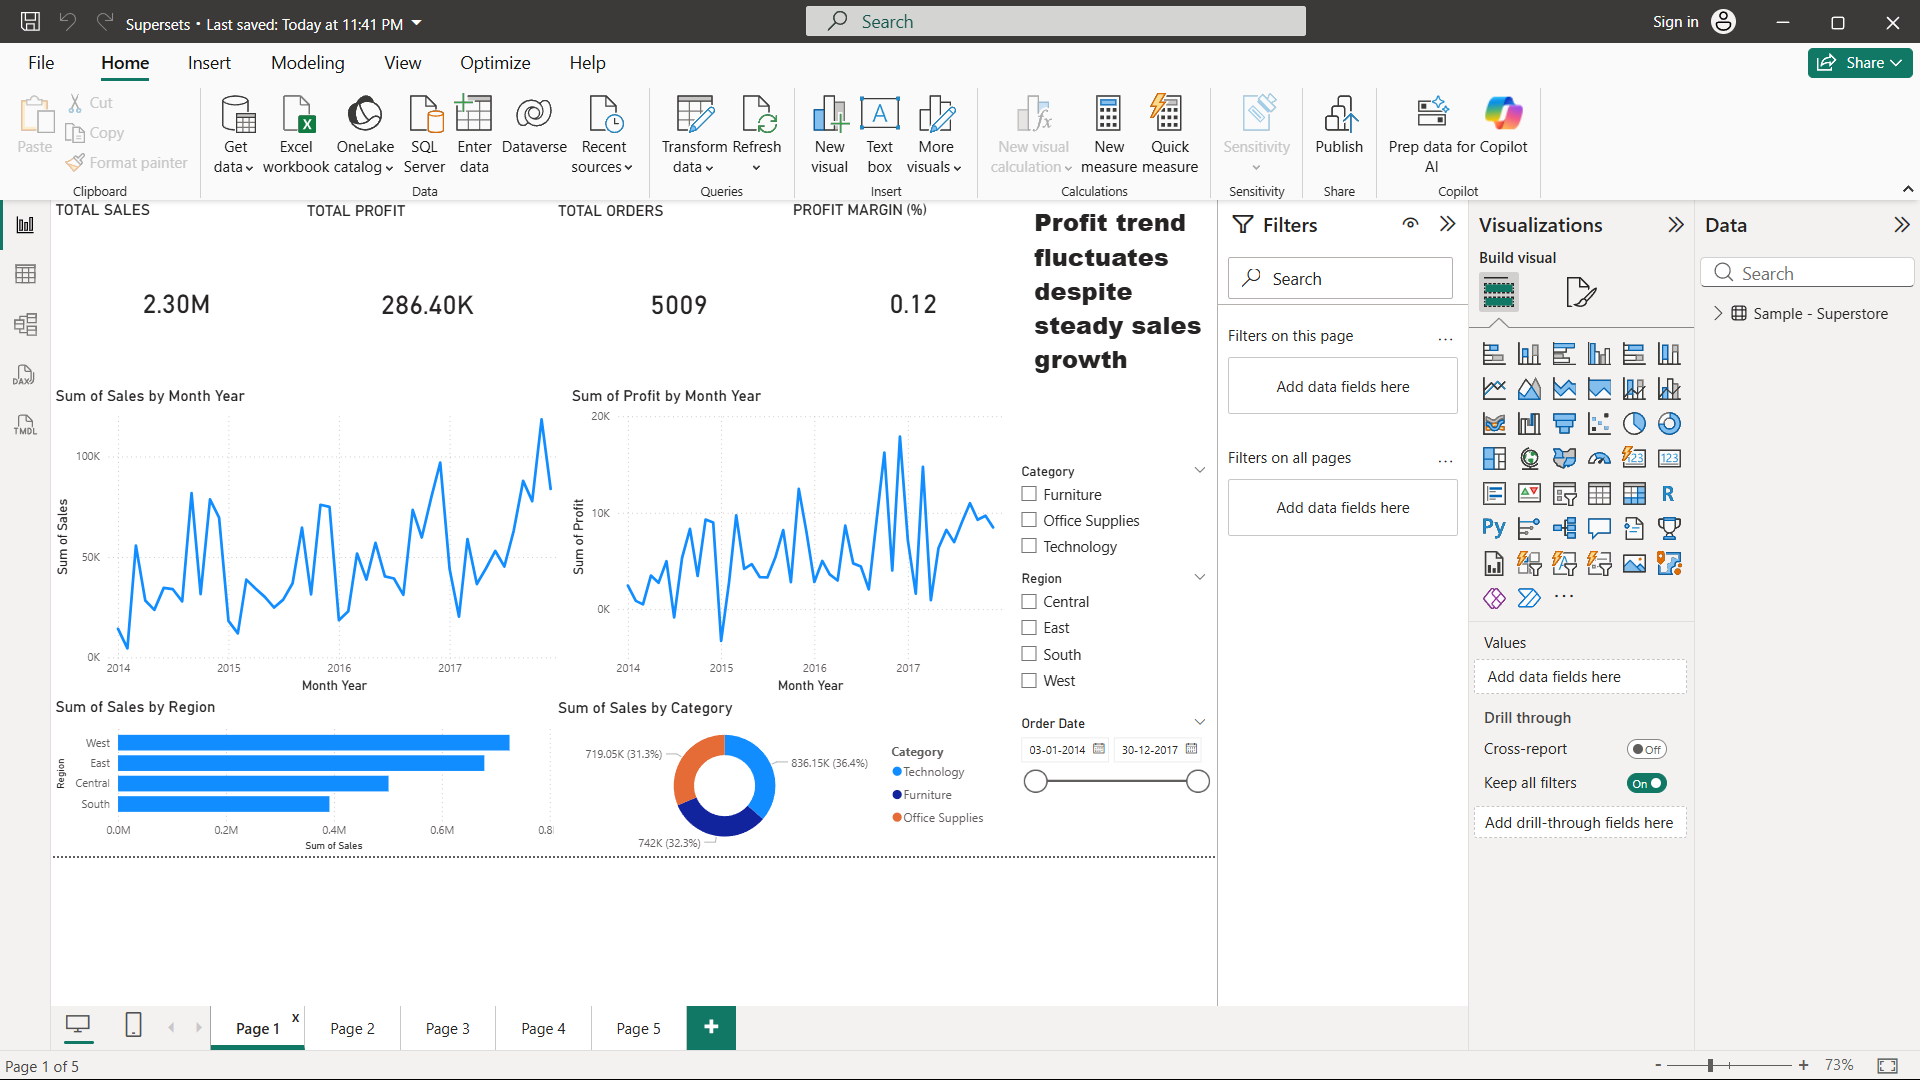

What the dashboard file says about the page in this screenshot:
{"tool":"powerbi","page":{"name":"Page 1","canvas":[1280,720],"ordinal":0},"visuals":[{"type":"card","title":"TOTAL SALES","fields":{"Values":["Sum(Sample - Superstore.Sales)"]},"box":[0,0,275.8,204.5],"z":0},{"type":"card","title":"TOTAL PROFIT","fields":{"Values":["Sum(Sample - Superstore.Profit)"]},"box":[275.8,1.4,275,204.5],"z":1000},{"type":"card","title":"TOTAL ORDERS","fields":{"Values":["Count(Sample - Superstore.Order ID)"]},"box":[551.6,1.4,275,204.5],"z":2000},{"type":"card","title":"PROFIT MARGIN (%)","fields":{"Values":["Sample - Superstore.Profit Margin"]},"box":[809.6,0,274.4,204.5],"z":3000},{"type":"lineChart","fields":{"Category":["Sample - Superstore.Month Year"],"Y":["Sum(Sample - Superstore.Sales)"]},"box":[0,204.5,566.7,341.7],"z":4000},{"type":"lineChart","title":"Sum of Profit by Month Year","fields":{"Y":["Sum(Sample - Superstore.Profit)"],"Category":["Sample - Superstore.Month Year.Variation.Date Hierarchy.Year","Sample - Superstore.Month Year.Variation.Date Hierarchy.Month"]},"box":[566.7,204.5,485.8,341.7],"z":5000},{"type":"barChart","fields":{"Y":["Sum(Sample - Superstore.Sales)"],"Category":["Sample - Superstore.Region"]},"box":[0,546.1,566.7,174.3],"z":6000},{"type":"donutChart","fields":{"Y":["Sum(Sample - Superstore.Sales)"],"Category":["Sample - Superstore.Category"]},"box":[552,548,486,172],"z":7000},{"type":"slicer","fields":{"Values":["Sample - Superstore.Region"]},"box":[1052.5,402.1,227.8,145.5],"z":8000},{"type":"slicer","fields":{"Values":["Sample - Superstore.Category"]},"box":[1052.5,284,227.8,118],"z":9000},{"type":"slicer","fields":{"Values":["Sample - Superstore.Order Date"]},"box":[1052.5,561.2,227.8,159.2],"z":10000},{"type":"textbox","box":[1074.4,0,205.8,204.5],"z":11000}]}

Visuals, with their boxes on the page's 1280x720 design canvas (x1, y1, x2, y2). These are canvas units, not pixel positions in the 1920x1080 screenshot, which may show the page scaled, cropped or inside an application window:
"TOTAL SALES" card: locate(0, 0, 276, 204)
"TOTAL PROFIT" card: locate(276, 1, 551, 206)
"TOTAL ORDERS" card: locate(552, 1, 827, 206)
"PROFIT MARGIN (%)" card: locate(810, 0, 1084, 204)
lineChart - Sample - Superstore.Month Year x Sum(Sample - Superstore.Sales): locate(0, 204, 567, 546)
"Sum of Profit by Month Year" lineChart: locate(567, 204, 1052, 546)
barChart - Sum(Sample - Superstore.Sales) x Sample - Superstore.Region: locate(0, 546, 567, 720)
donutChart - Sum(Sample - Superstore.Sales) x Sample - Superstore.Category: locate(552, 548, 1038, 720)
slicer - Sample - Superstore.Region: locate(1052, 402, 1280, 548)
slicer - Sample - Superstore.Category: locate(1052, 284, 1280, 402)
slicer - Sample - Superstore.Order Date: locate(1052, 561, 1280, 720)
textbox: locate(1074, 0, 1280, 204)
